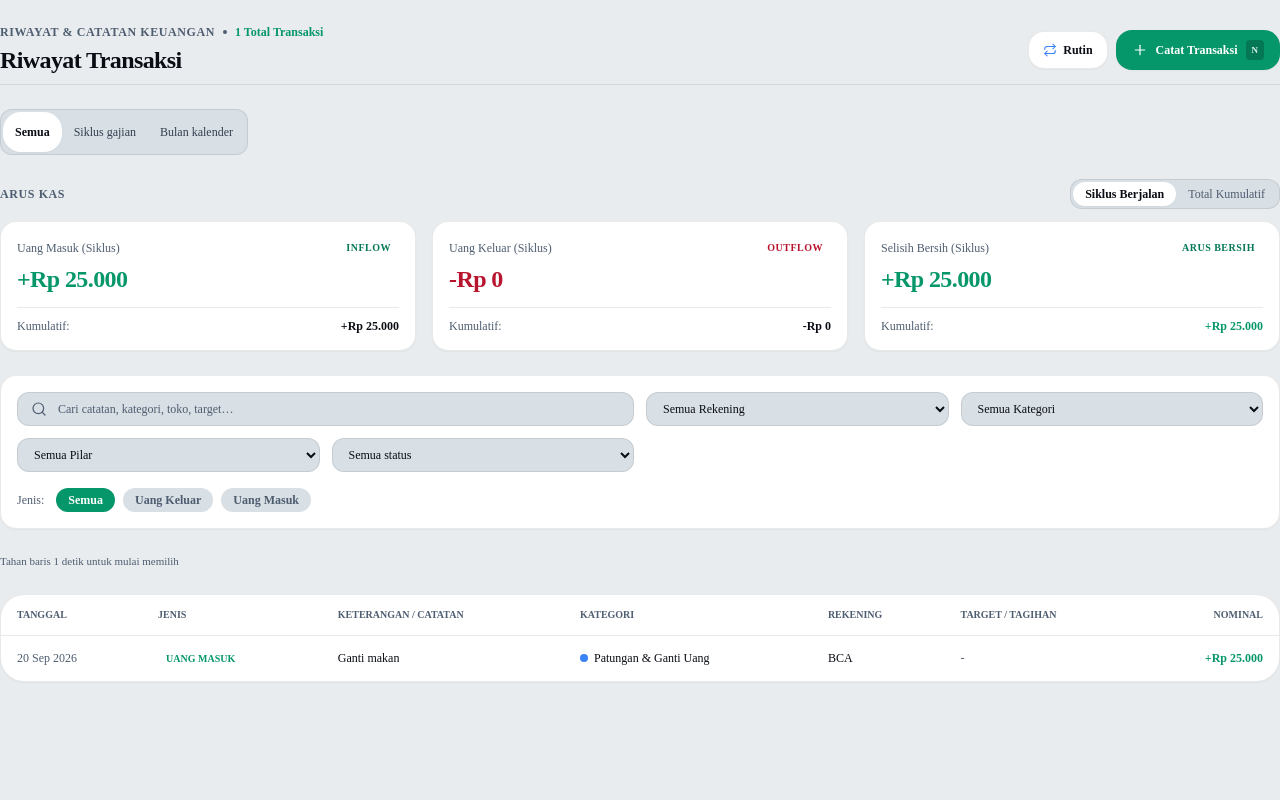
Test: Ledger provenance and reimbursements › lets a reimbursement pick the spending category it repays
Click the row named "Buka atau ubah: Ganti makan" at (640, 658), box [1,635,1279,680]
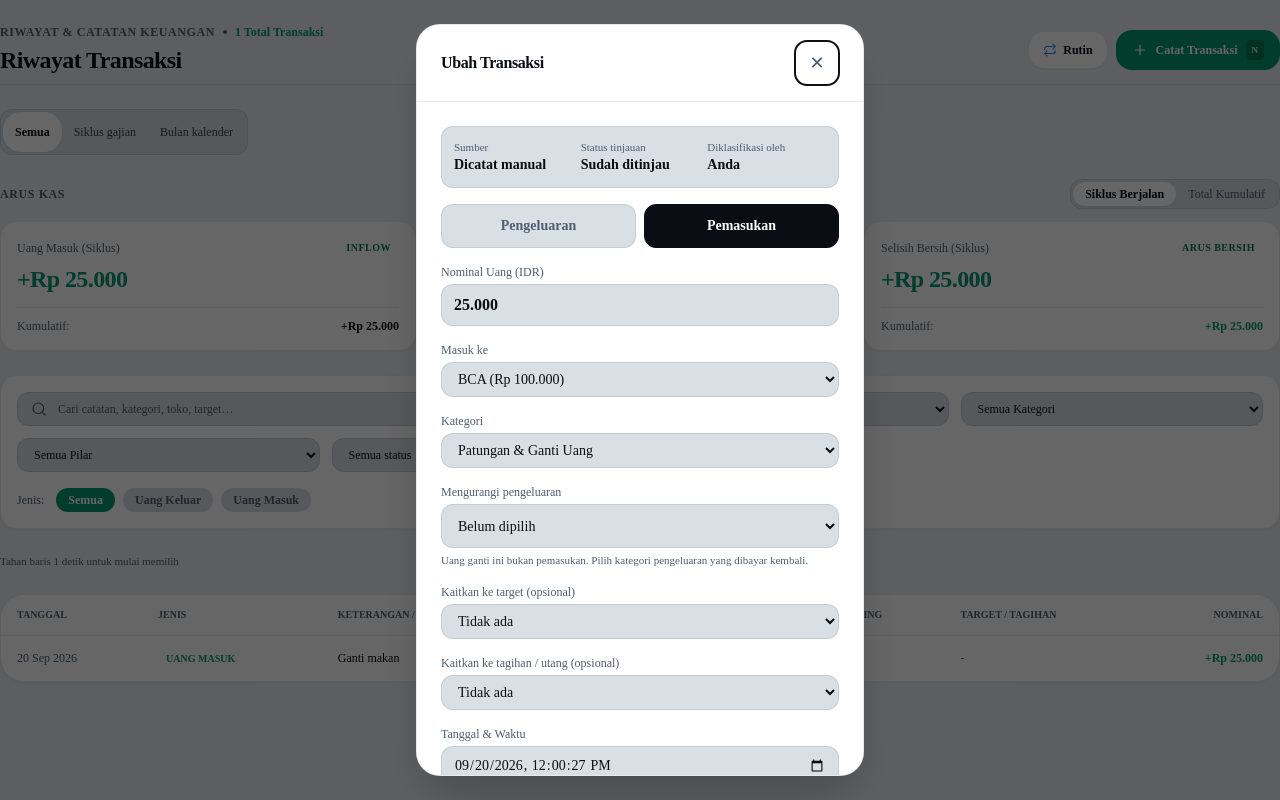
Select "Makan Bareng" in the dropdown labelled "Mengurangi pengeluaran" at (640, 526), box [441,504,839,548]
(page scrolled)
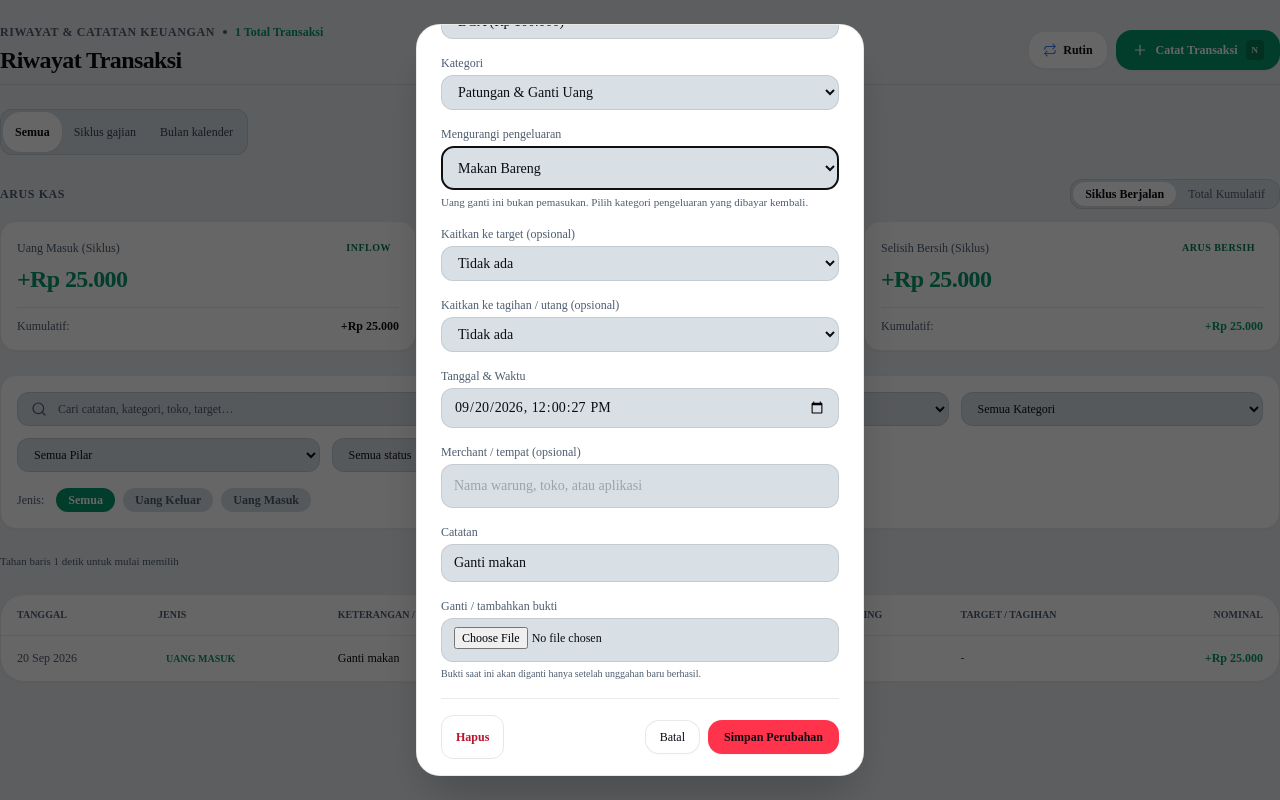
Click the button "Simpan Perubahan" at (774, 737), box [708,720,839,754]
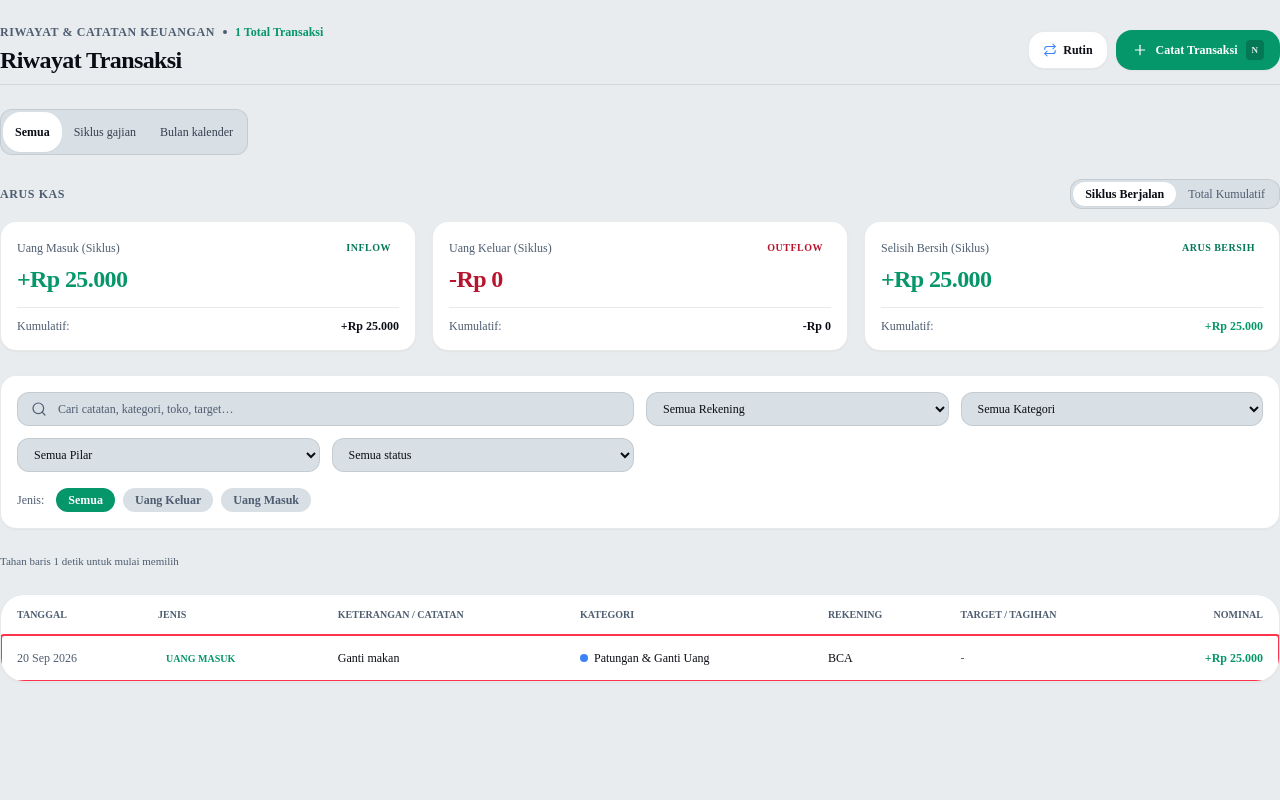
Click the row named "Buka atau ubah: Ganti makan" at (640, 658), box [1,635,1279,680]
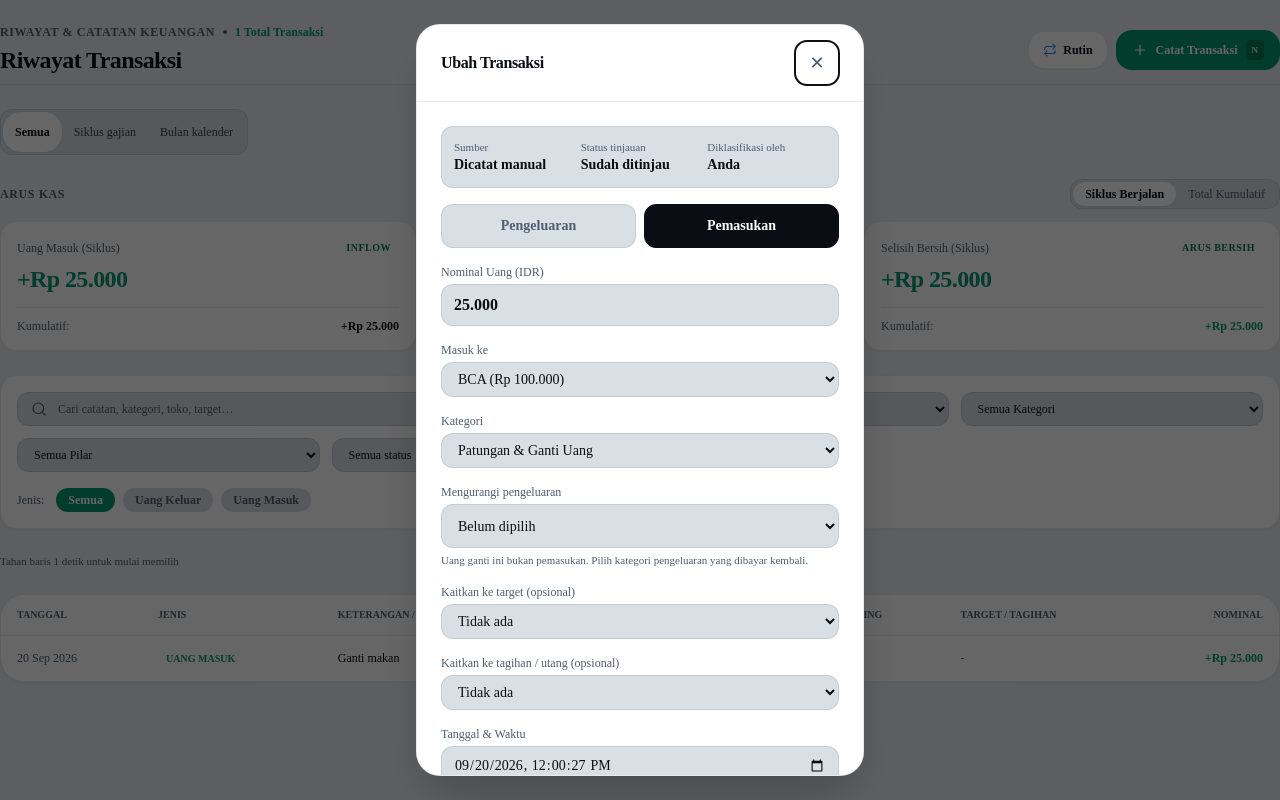
Select "Gaji" in the dropdown labelled "Kategori" at (640, 450), box [441,433,839,468]
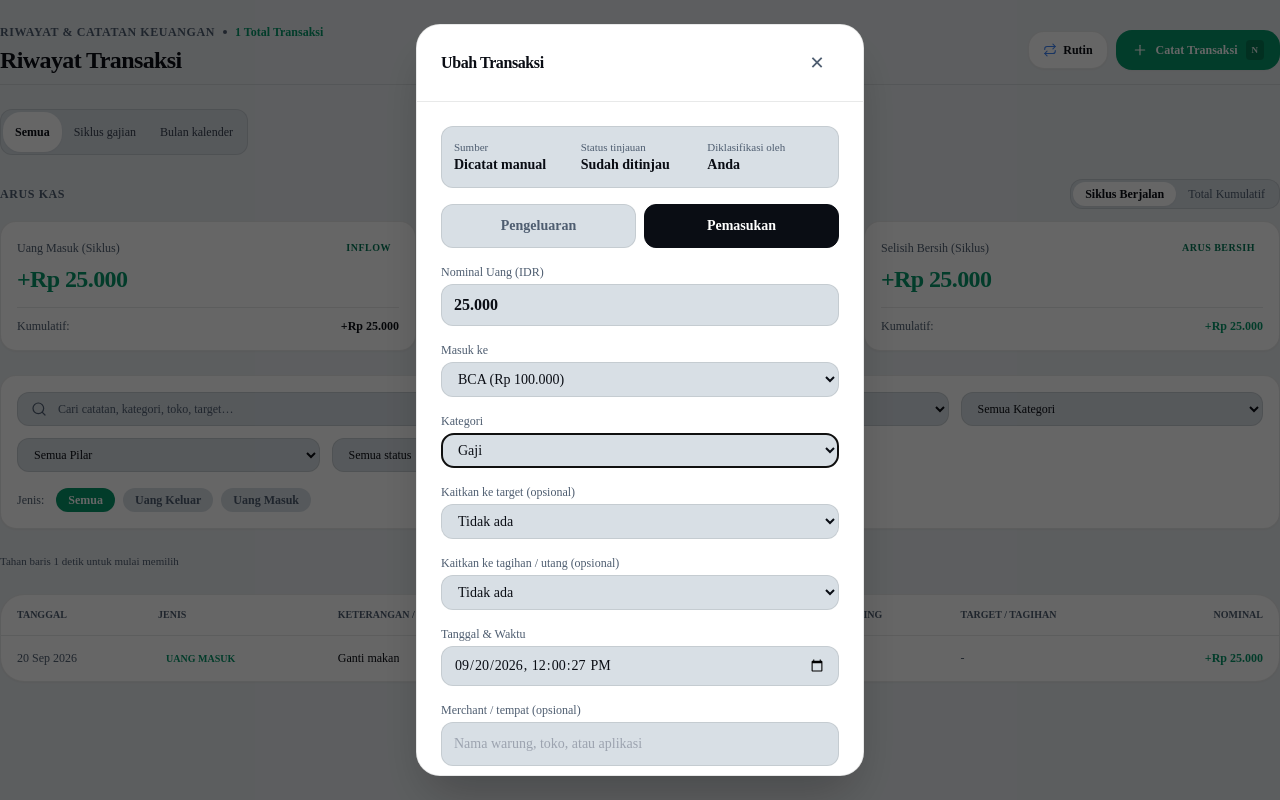
Expected: the label "Mengurangi pengeluaran" is gone
